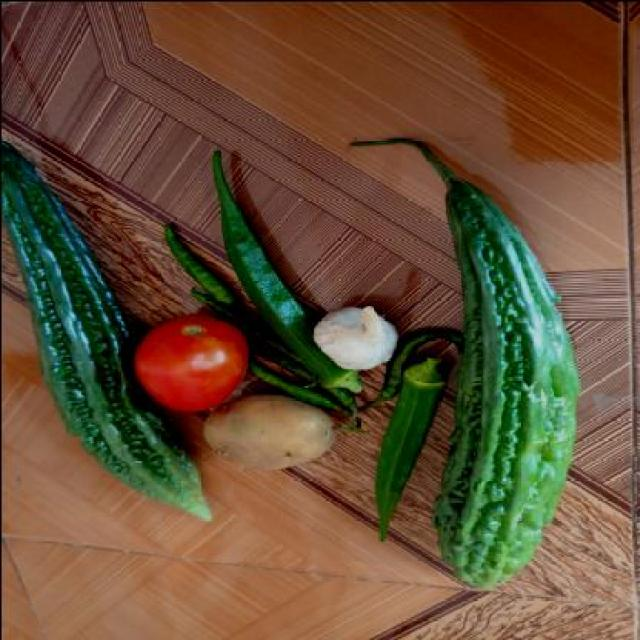Bitter melon: (420, 157, 583, 585), (0, 140, 131, 454)
Garlic: (314, 300, 400, 368)
Green Chili: (154, 223, 232, 311)
Lady finger: (371, 357, 446, 500)
Potato: (203, 396, 339, 466)
